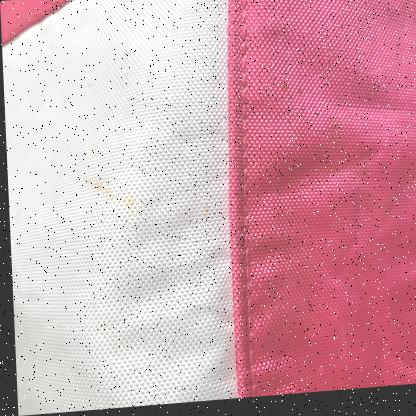spot: (61, 170, 163, 236)
